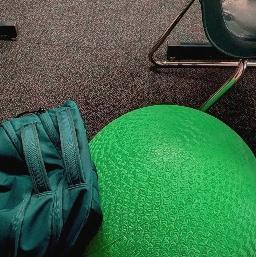algae: (81, 108, 256, 257)
